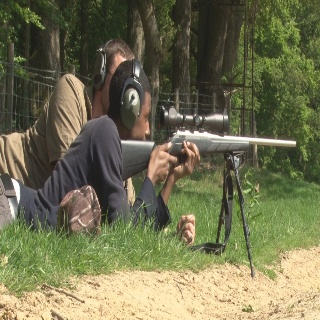rifle: (118, 105, 297, 279)
